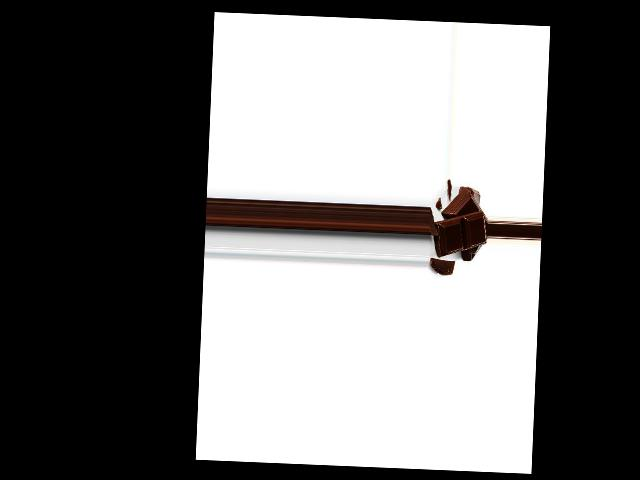chocolate: (434, 208, 485, 257)
